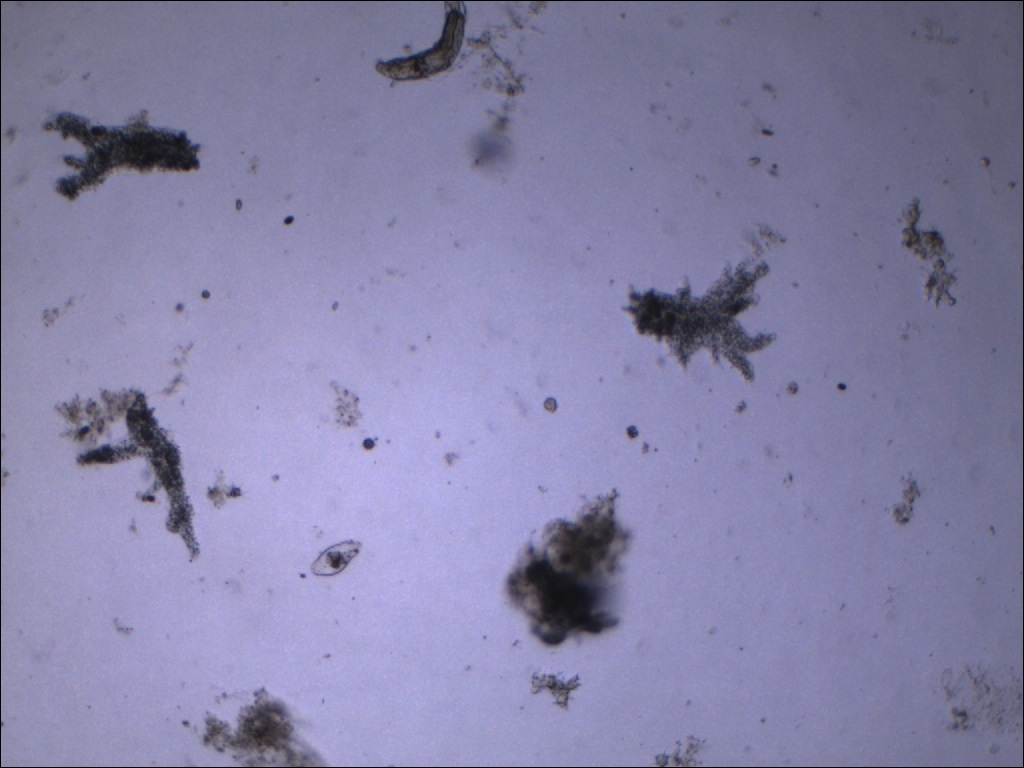amoeba: (618, 258, 786, 392), (77, 390, 203, 567), (38, 106, 209, 209)
